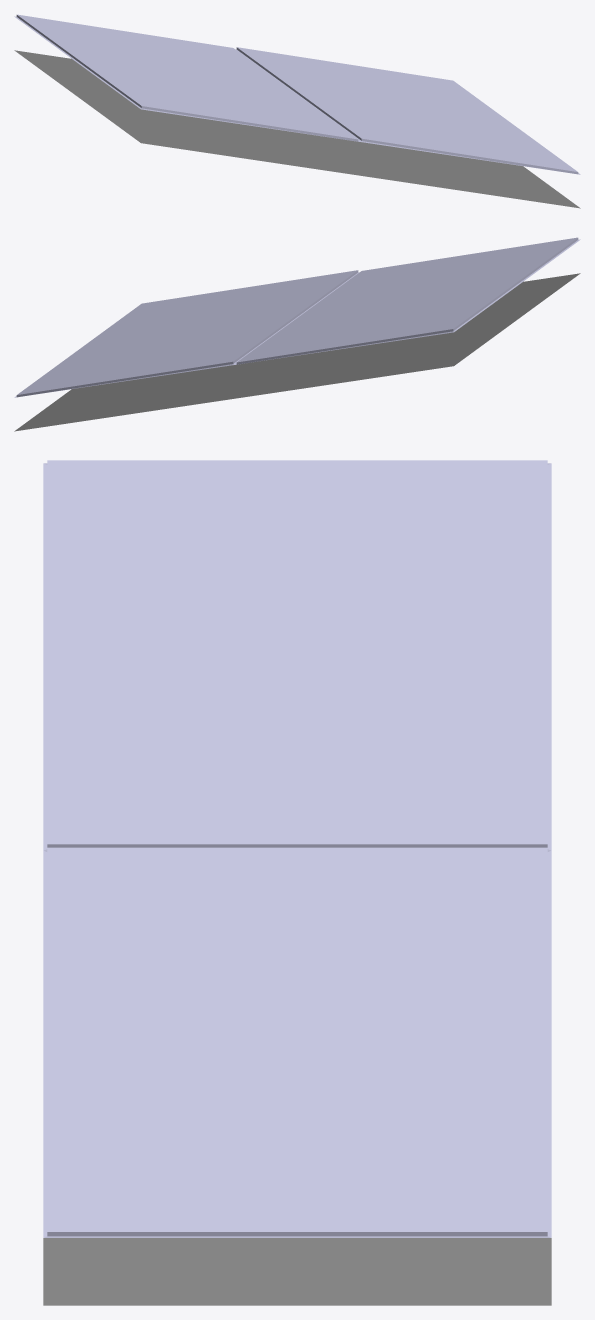
Rendered from FloorPlainSlope.fbx.
3 views of the same model, one above another, from view 1: azimuth 30°, elevation 25°; view 2: azimuth 150°, elevation 25°; view 3: azimuth 270°, elevation 25° (orthographic). The views are drawn at different scales.
Visible parts, largest first — view 1: FloorPlainSlope; view 2: FloorPlainSlope; view 3: FloorPlainSlope.
Boxes of the visible parts, x1,y1,x2,y2 form: FloorPlainSlope: [14, 14, 580, 208]; FloorPlainSlope: [14, 237, 580, 431]; FloorPlainSlope: [43, 460, 551, 1305].
Size of the model in its own units: 400 by 181 by 200.
